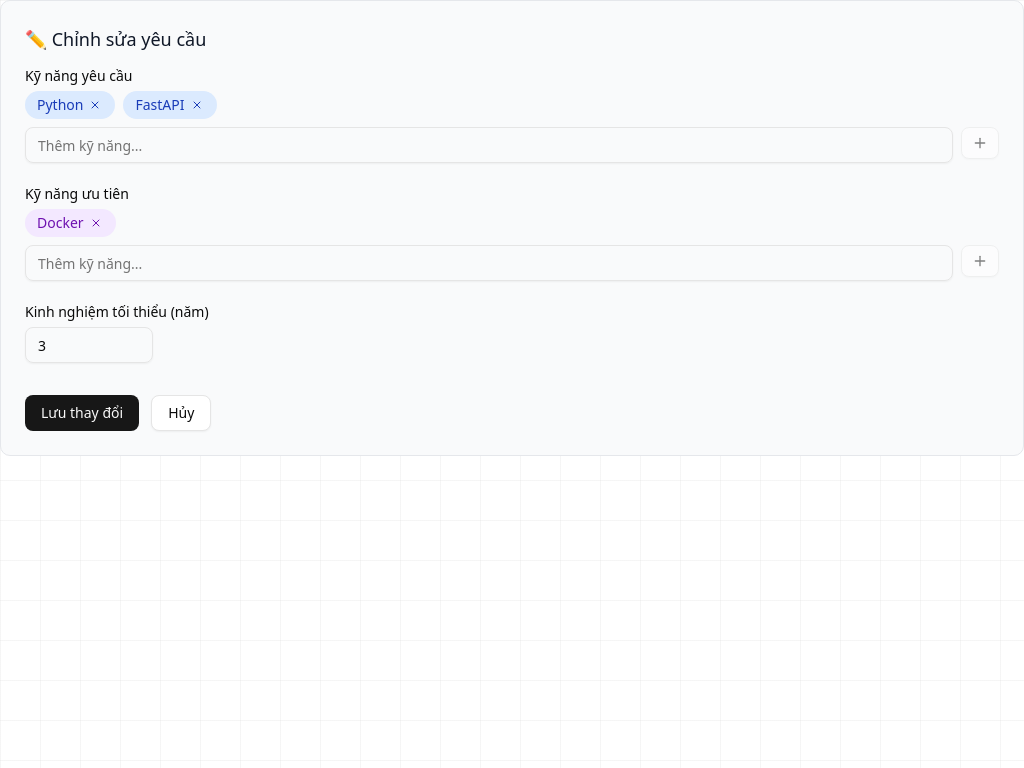
Test case: EditParsedRequirements › remove skills from tag input
The width and height of the screenshot is (1024, 768).
# Find and click remove button for Python
What coordinates should you click on to do the following:
click the button named "Xóa Python"
I would click on:
 (96, 105)
Its box is [88,97,104,113].
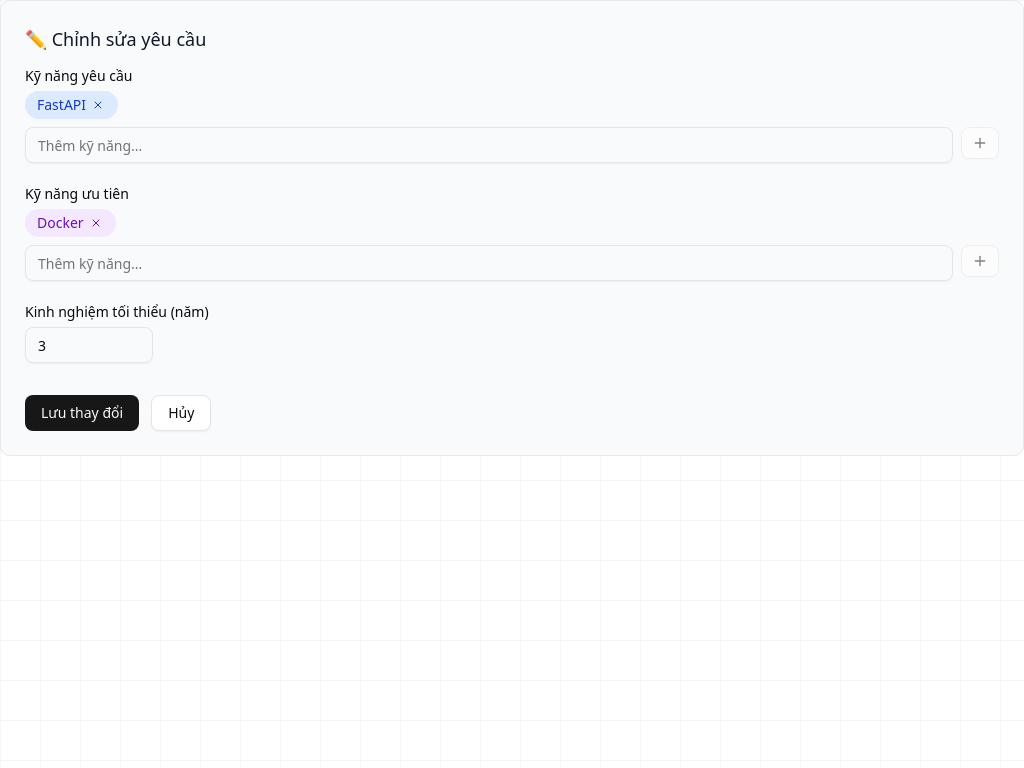
Now the list item "Python" is gone
